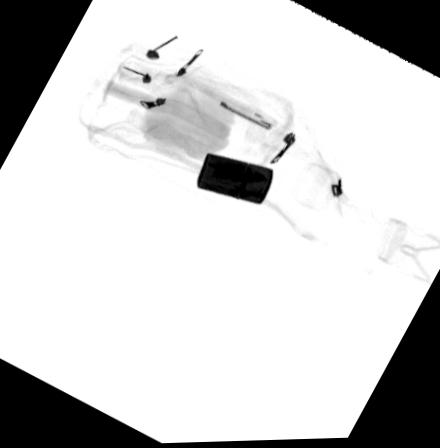Lighter: (195, 152, 272, 205)
